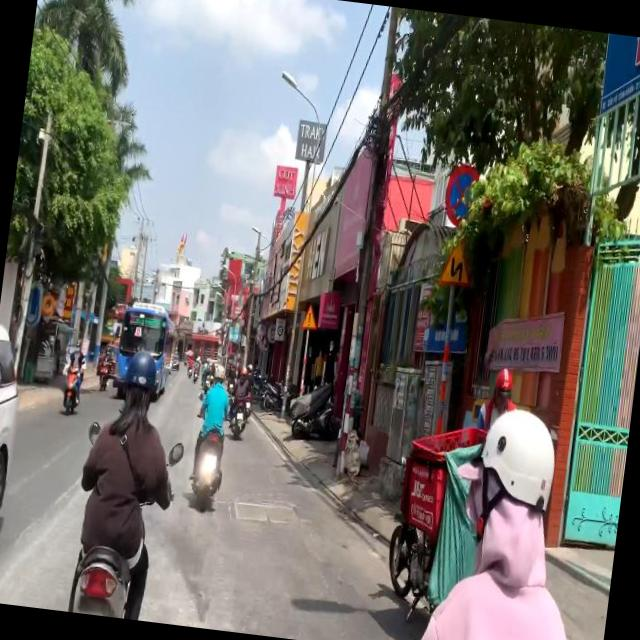W-202a: (436, 238, 474, 287)
